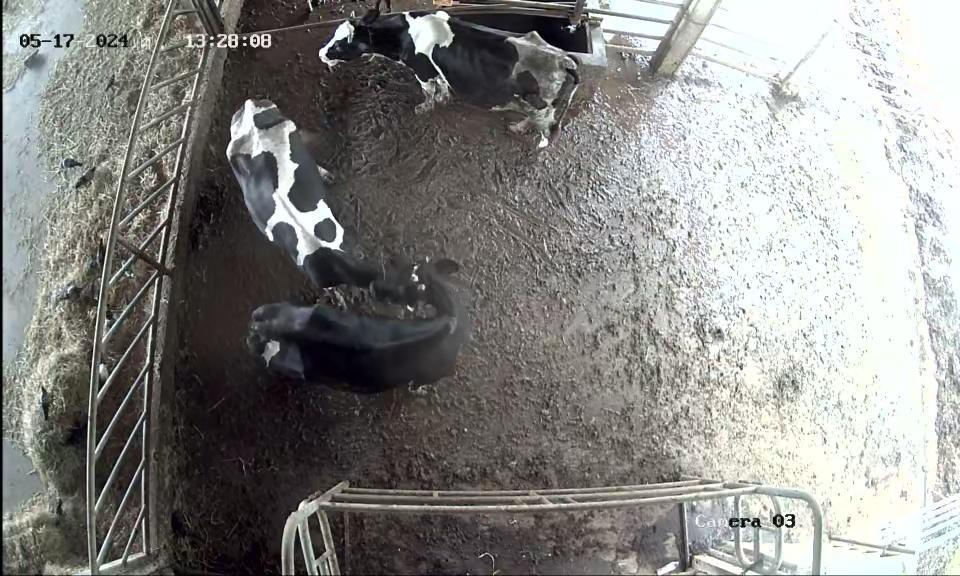stand: (311, 0, 589, 148), (224, 87, 406, 302), (224, 260, 480, 404)
